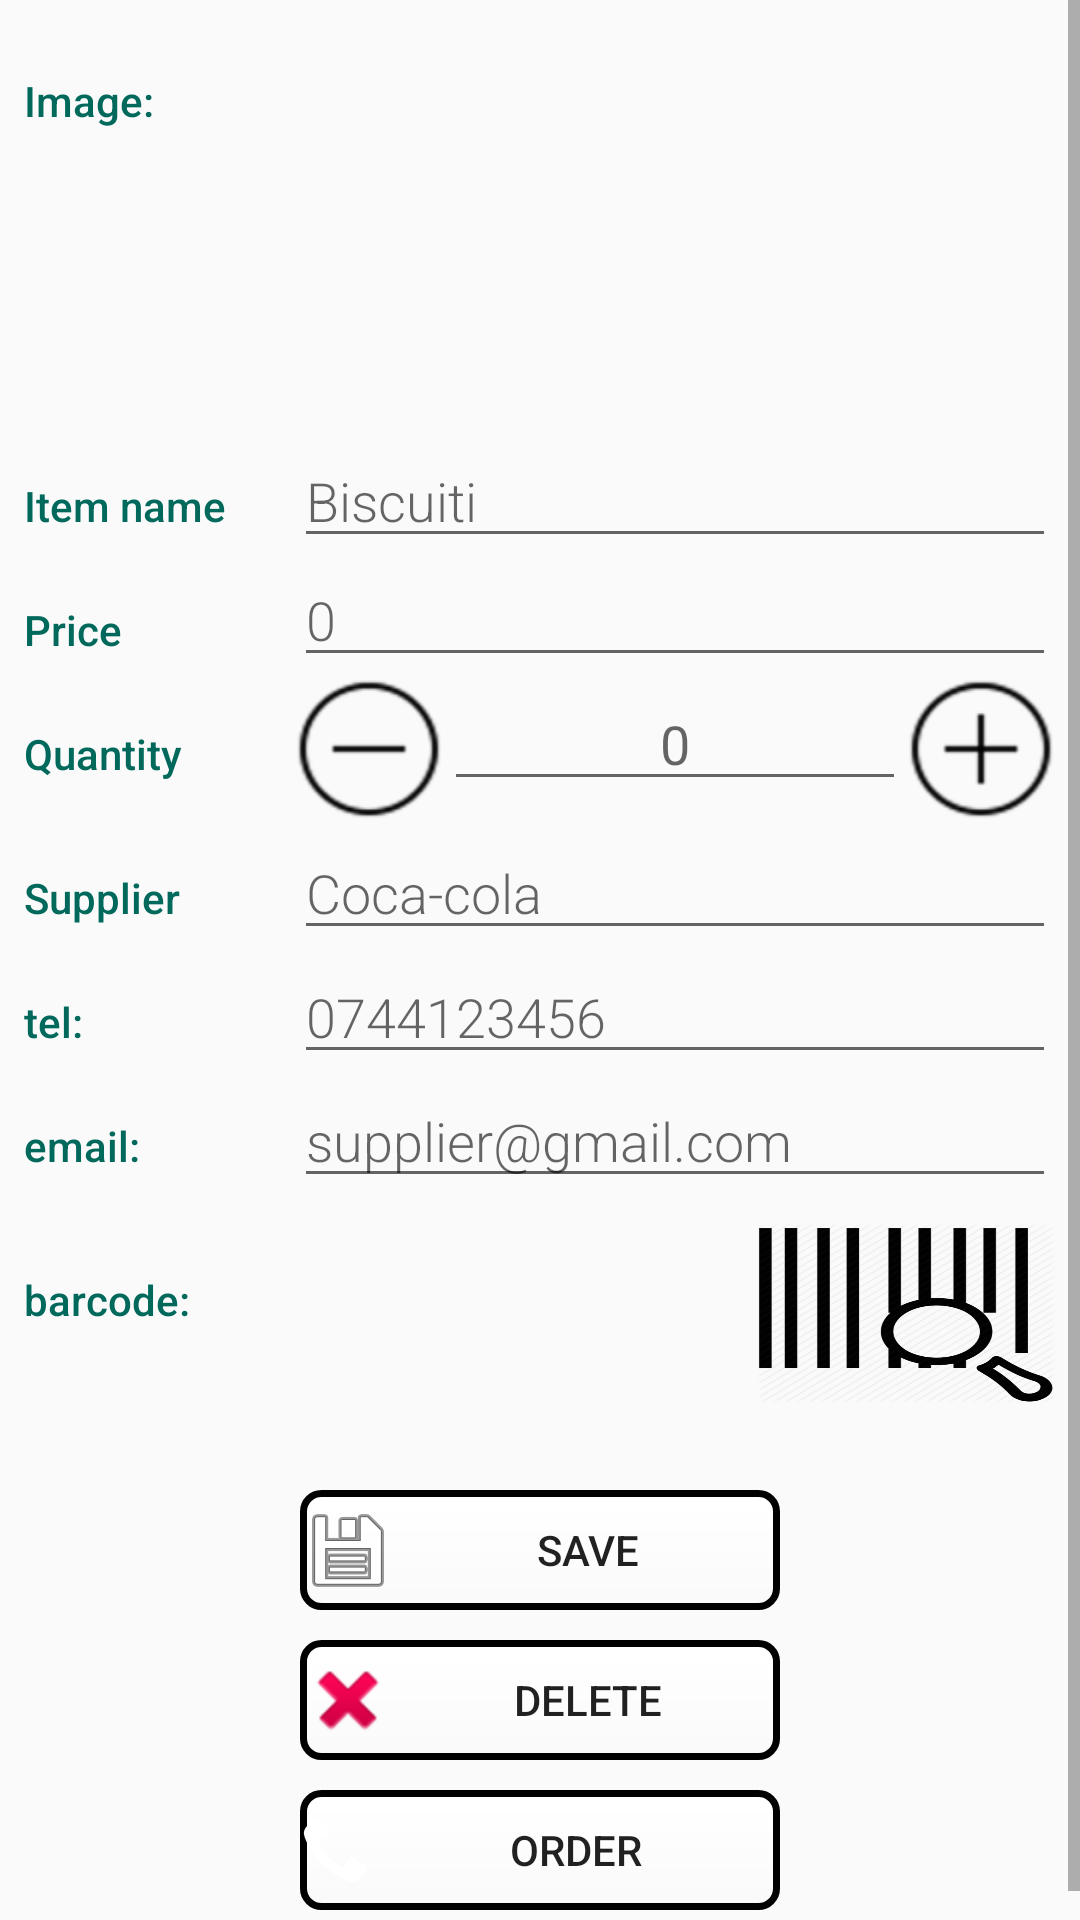

Icons on this 1080×1920 Android screen, each with the point to tap as [x,y]:
scan barcode: [906,1315]
